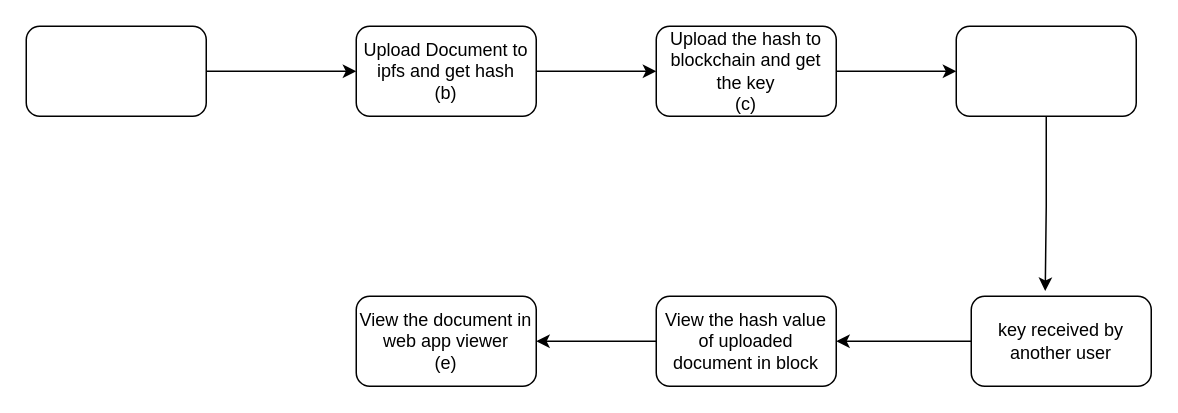
Some shapes in this 1178 by 413 pixel diagram are drawn without their labels. The shapes that lost their labels are listed below. From the top down, each one's centre as x and y in pixels, then its label:
(115,70): Login to Web App (a)
(1045,70): share the key (d)
